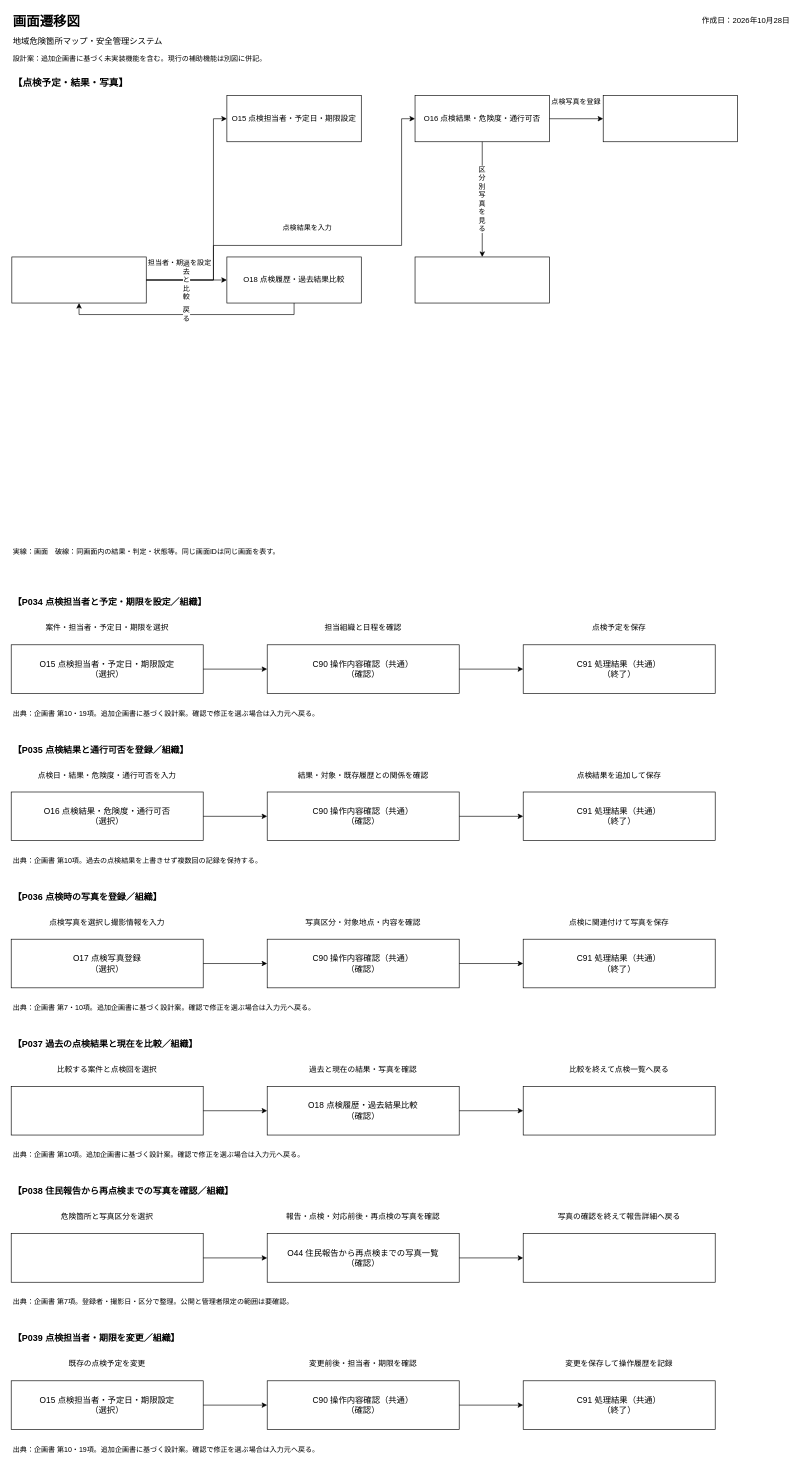
Some shapes in this 803 by 1476 pixel diagram are drawn without their labels. The box of each missing label's shape, as (x1, y1, x2, y2) in pixels:
O03 住民報告詳細・確認 （終了）: (523, 1233, 715, 1282)
O03 住民報告詳細・確認 （選択）: (11, 1233, 203, 1282)
O14 点検予定一覧: (11, 256, 146, 303)
O14 点検予定一覧 （終了）: (523, 1086, 715, 1135)
O14 点検予定一覧 （選択）: (11, 1086, 203, 1135)
O17 点検写真登録: (603, 95, 738, 142)
O44 住民報告から再点検までの写真一覧: (414, 256, 549, 303)
